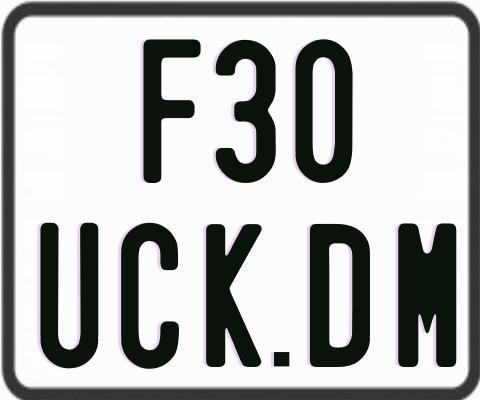0: (292, 39, 354, 188)
3: (215, 37, 279, 181)
C: (118, 221, 176, 367)
D: (308, 224, 374, 368)
F: (143, 36, 207, 186)
K: (204, 223, 264, 371)
M: (396, 223, 455, 369)
U: (38, 223, 96, 372)
